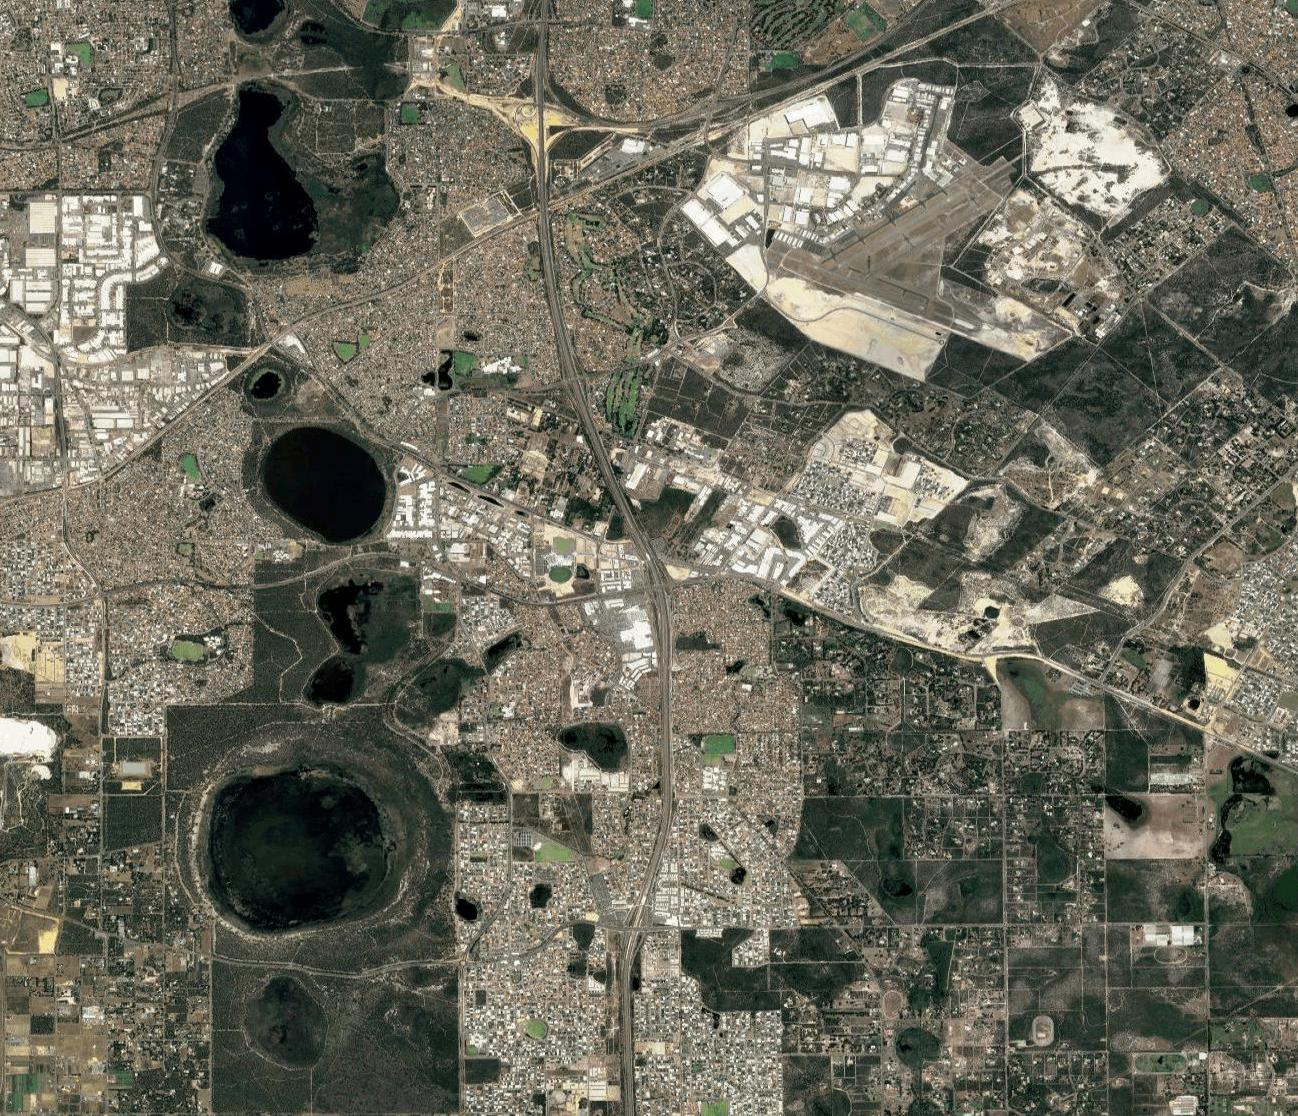industrial: (1, 188, 155, 481), (710, 83, 935, 256), (693, 486, 836, 600), (383, 460, 525, 568)
motorway: (533, 1, 557, 242), (566, 376, 614, 485), (538, 243, 576, 373), (613, 483, 660, 568), (656, 681, 677, 832), (634, 833, 668, 920), (616, 1005, 640, 1116), (651, 572, 675, 683), (617, 920, 641, 1002)
